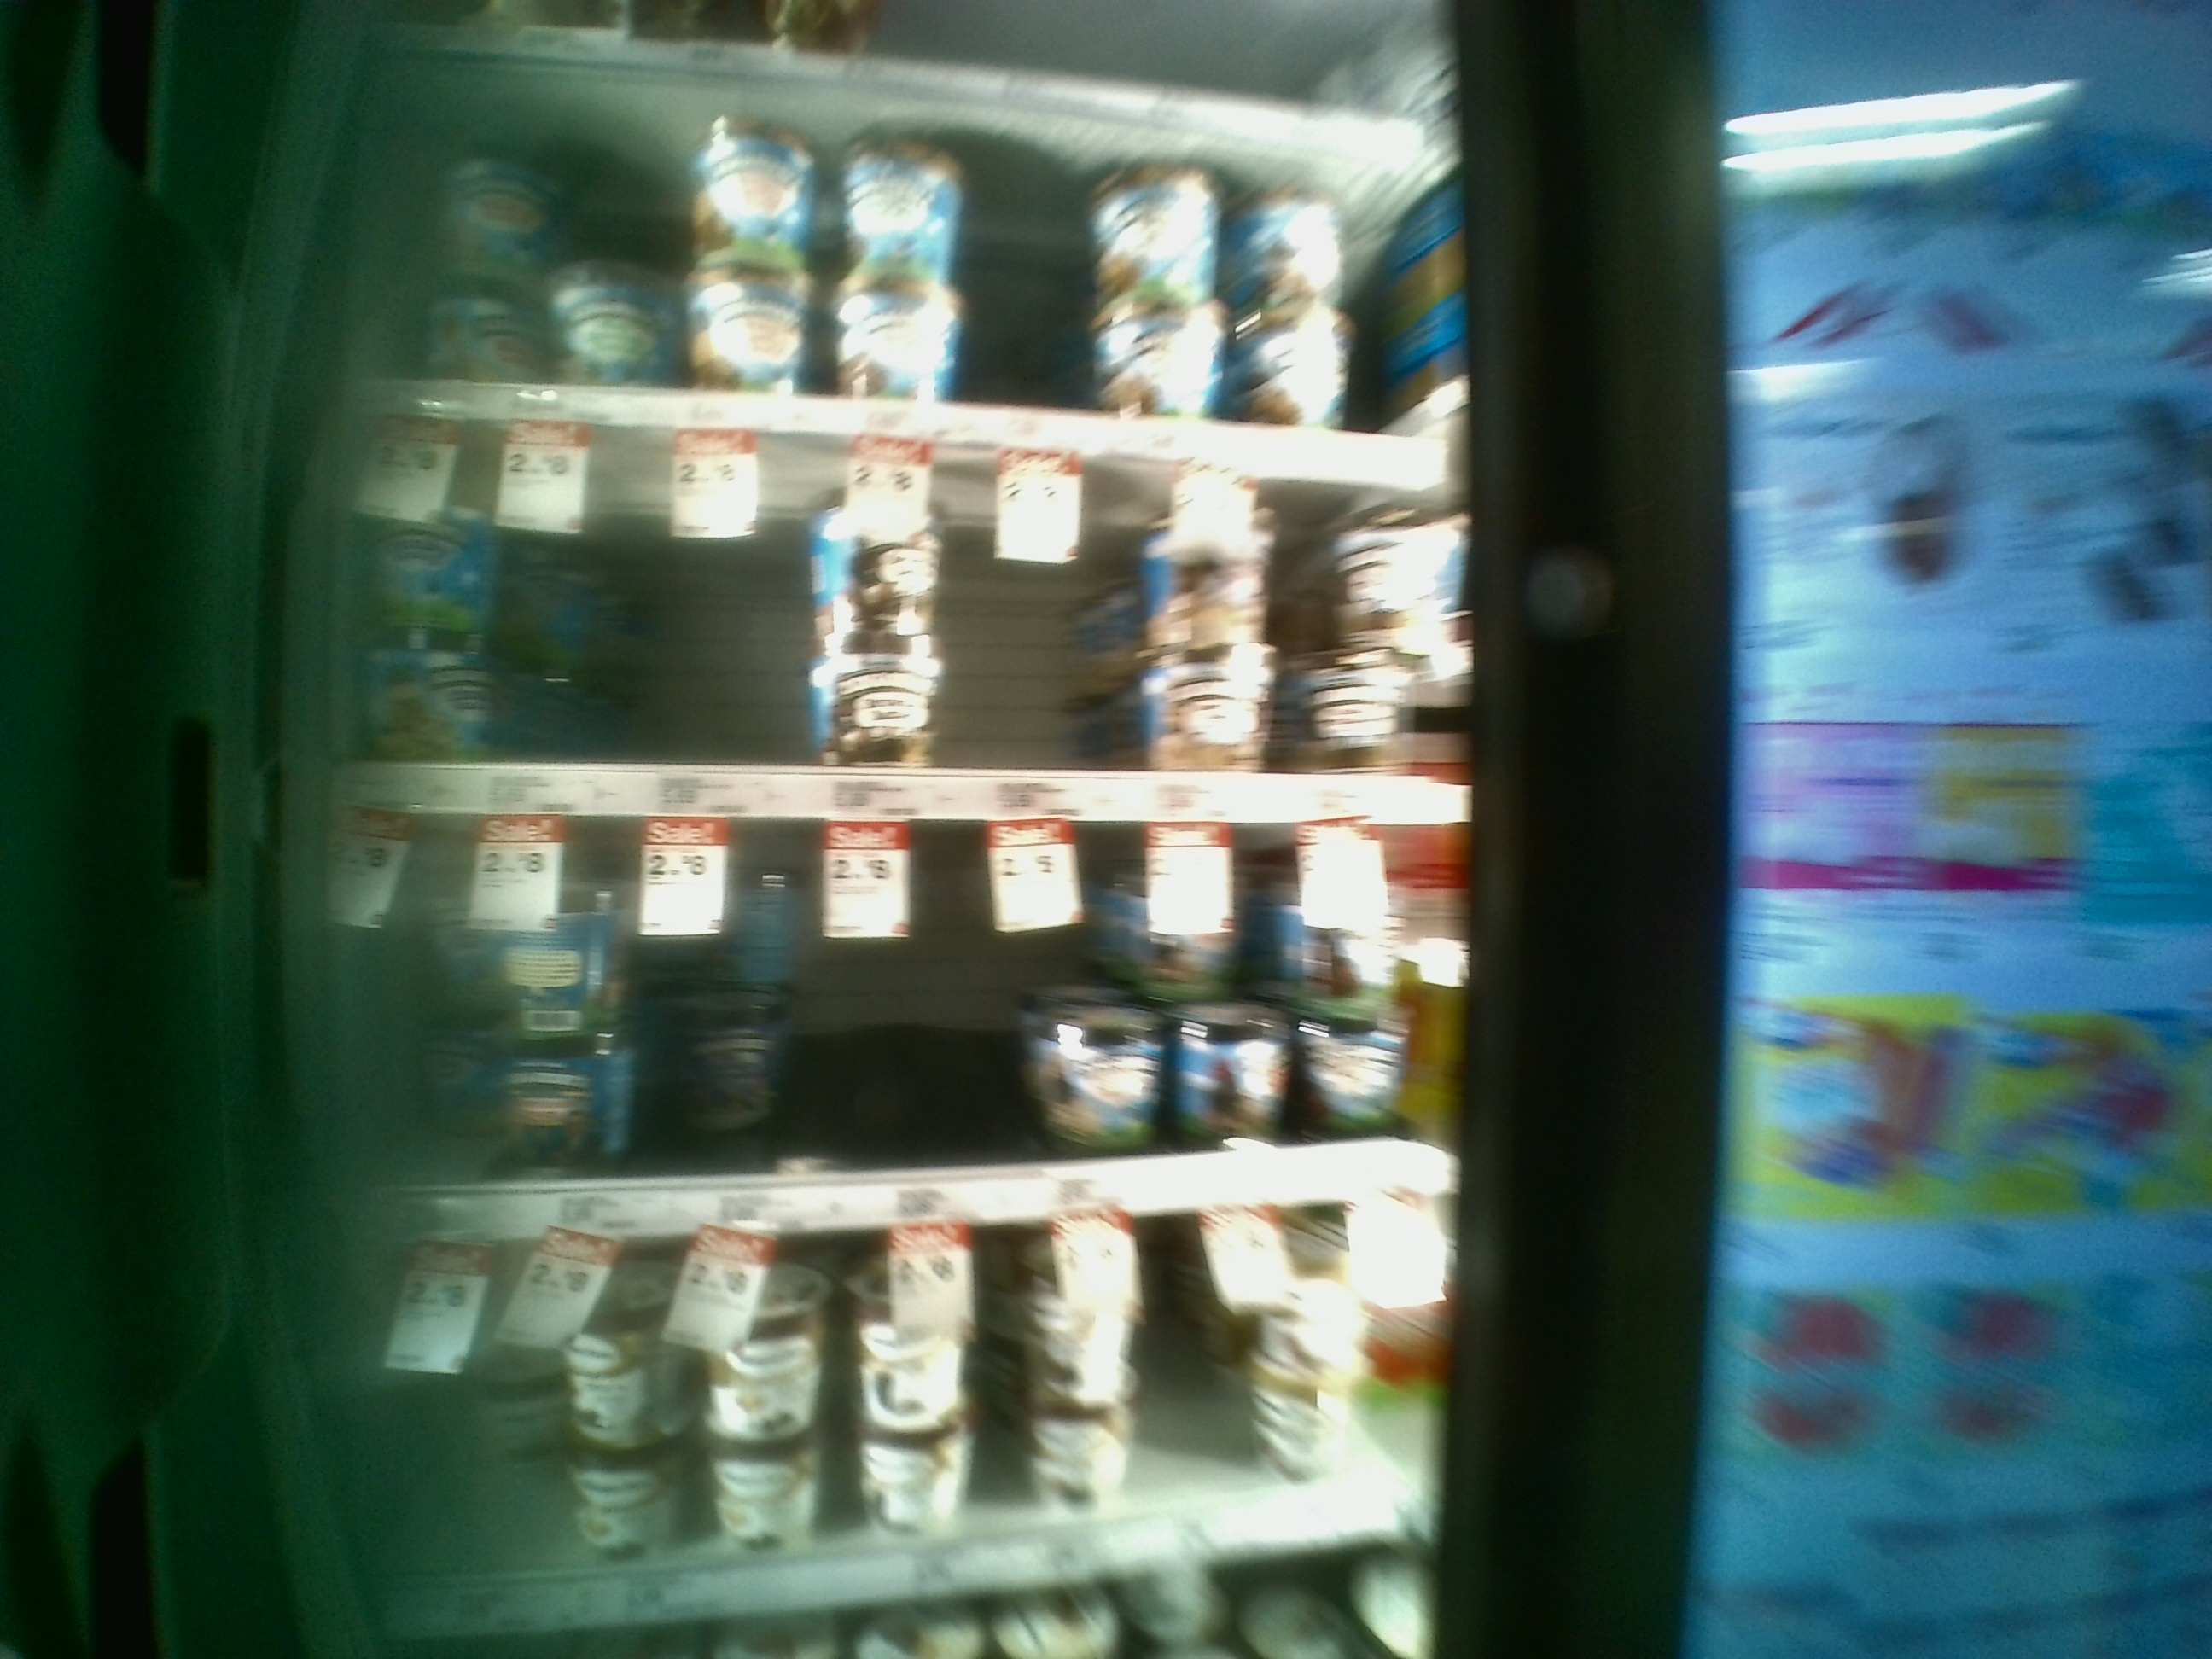shelf: (343, 814, 1456, 1244)
